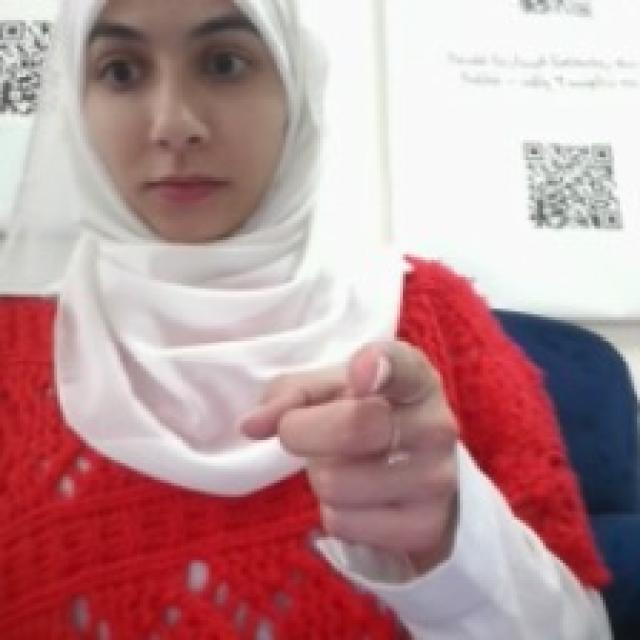you: (231, 329, 460, 574)
